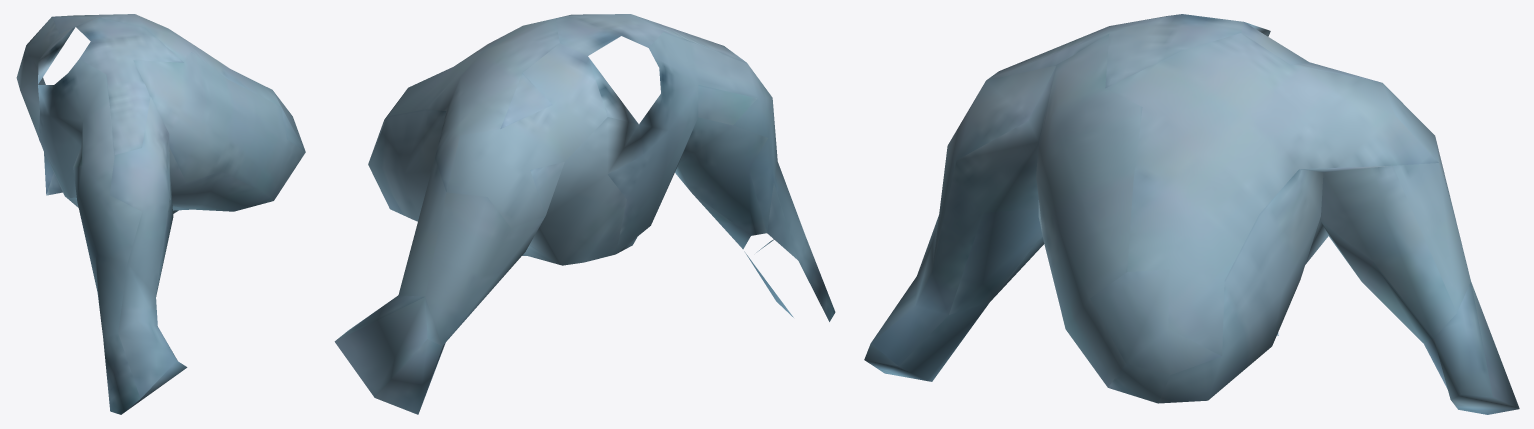
3 views of the same model, side by side, from view 1: azimuth 30°, elevation 25°; view 2: azimuth 150°, elevation 25°; view 3: azimuth 270°, elevation 25° (orthographic). The views are drawn at different scales.
Parts seen in each view (by area): view 1: tripo_part_14; view 2: tripo_part_14; view 3: tripo_part_14.
Boxes of the visible parts, x1,y1,x2,y2 form: tripo_part_14: (16,14,305,414); tripo_part_14: (334,14,835,414); tripo_part_14: (864,14,1519,414).
Bounding box in the file's own units: 0.0748 × 0.0731 × 0.1047.
Materials: 1 (1 with a texture image).
